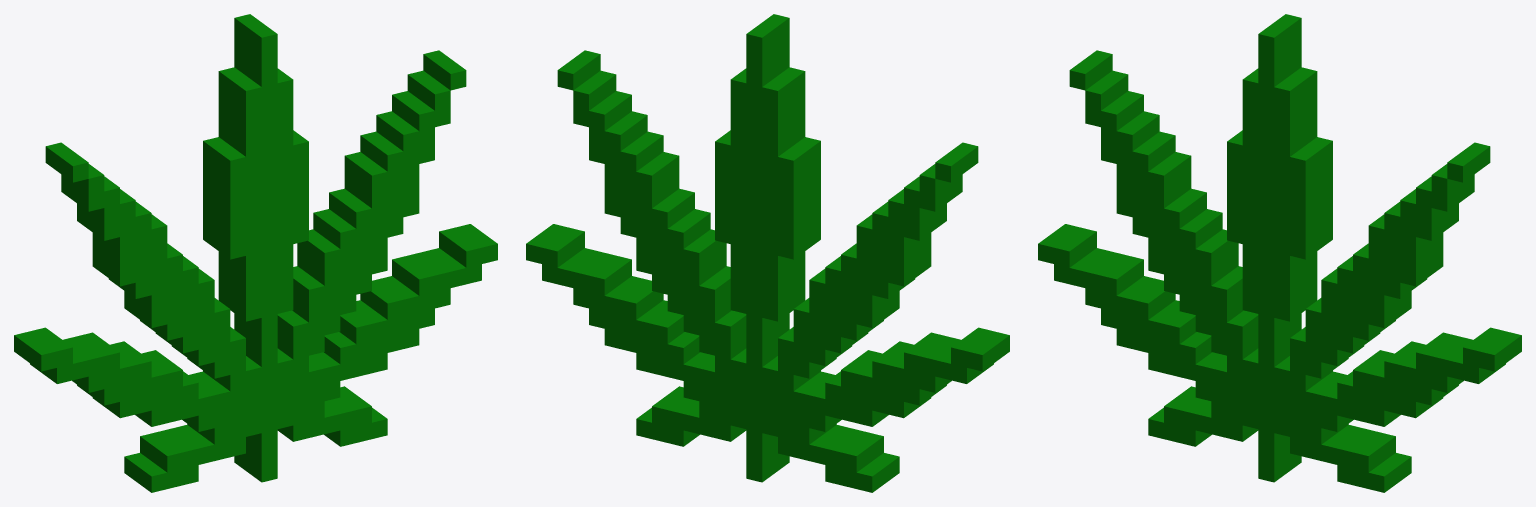
File: weed.obj
The picture shows the model from 3 angles, left to right: view 1: azimuth 30°, elevation 25°; view 2: azimuth 150°, elevation 25°; view 3: azimuth 330°, elevation 25°; orthographic projection.
Size of the model in its own units: 2.9 by 2.7 by 0.3.
1 material, 1 textured.
